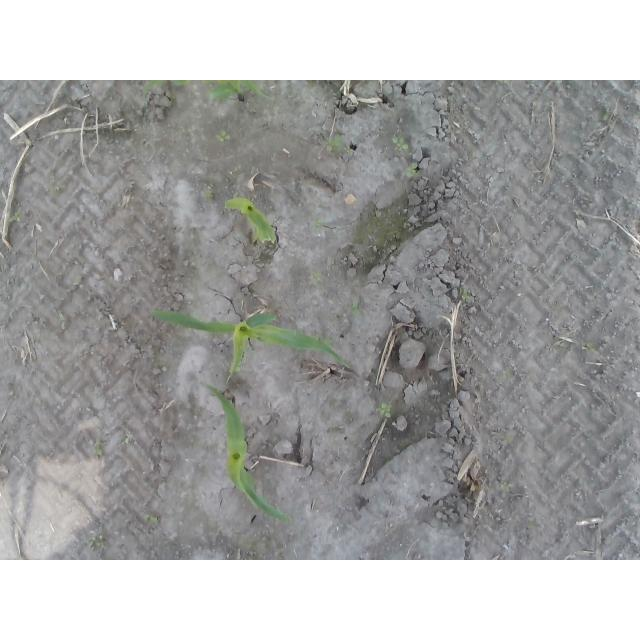Maize: (149, 308, 352, 384), (197, 380, 295, 524), (224, 198, 277, 247), (207, 80, 269, 100)
Weeds: (326, 134, 346, 156), (85, 539, 107, 554), (91, 437, 105, 459), (376, 403, 393, 421), (9, 206, 23, 224), (461, 286, 476, 302), (405, 163, 420, 179), (392, 138, 408, 153), (142, 515, 159, 526), (310, 271, 322, 286), (581, 341, 595, 353), (217, 130, 231, 142), (203, 186, 215, 199), (308, 222, 326, 230), (350, 301, 360, 315), (602, 108, 611, 123), (500, 482, 513, 491), (121, 438, 131, 446), (503, 369, 510, 379)
